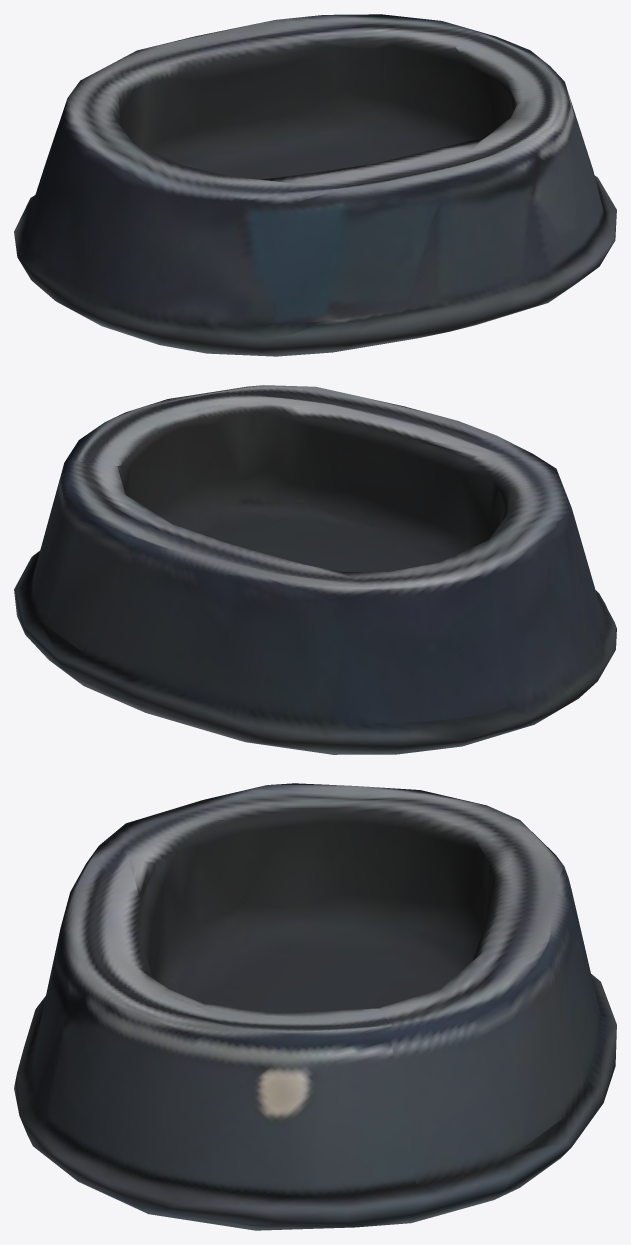
File: EmptyPlate.fbx
3 views of the same model, one above another, from view 1: azimuth 30°, elevation 25°; view 2: azimuth 150°, elevation 25°; view 3: azimuth 270°, elevation 25° (orthographic). The views are drawn at different scales.
Parts seen in each view (by area): view 1: tripo_node_cc436b14; view 2: tripo_node_cc436b14; view 3: tripo_node_cc436b14.
Part boxes in pixels (bbox=[...]): tripo_node_cc436b14: bbox=[14, 14, 616, 356]; tripo_node_cc436b14: bbox=[14, 385, 616, 754]; tripo_node_cc436b14: bbox=[14, 783, 616, 1230].
Size of the model in its own units: 17.21 by 4.65 by 14.2.
Materials: 1 (1 with a texture image).
